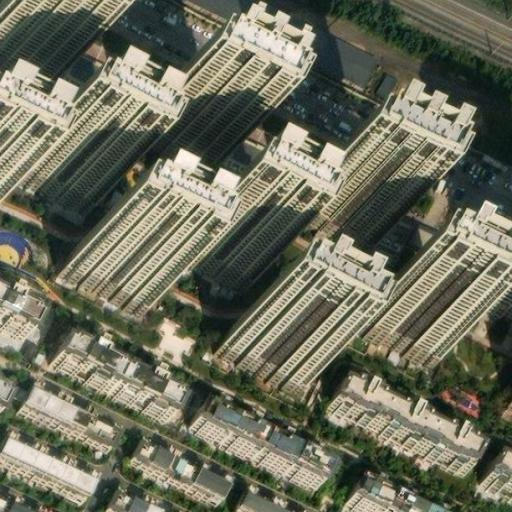building: (323, 379, 474, 472), (188, 400, 329, 483), (54, 335, 184, 418), (131, 92, 228, 171), (58, 234, 156, 312), (292, 169, 390, 246), (10, 132, 103, 209), (215, 317, 310, 389), (18, 380, 117, 449), (174, 210, 260, 286), (352, 291, 445, 361), (126, 440, 227, 502), (0, 429, 96, 494), (342, 479, 419, 512), (0, 292, 35, 333), (103, 489, 161, 512), (479, 454, 512, 494), (233, 489, 288, 512)
